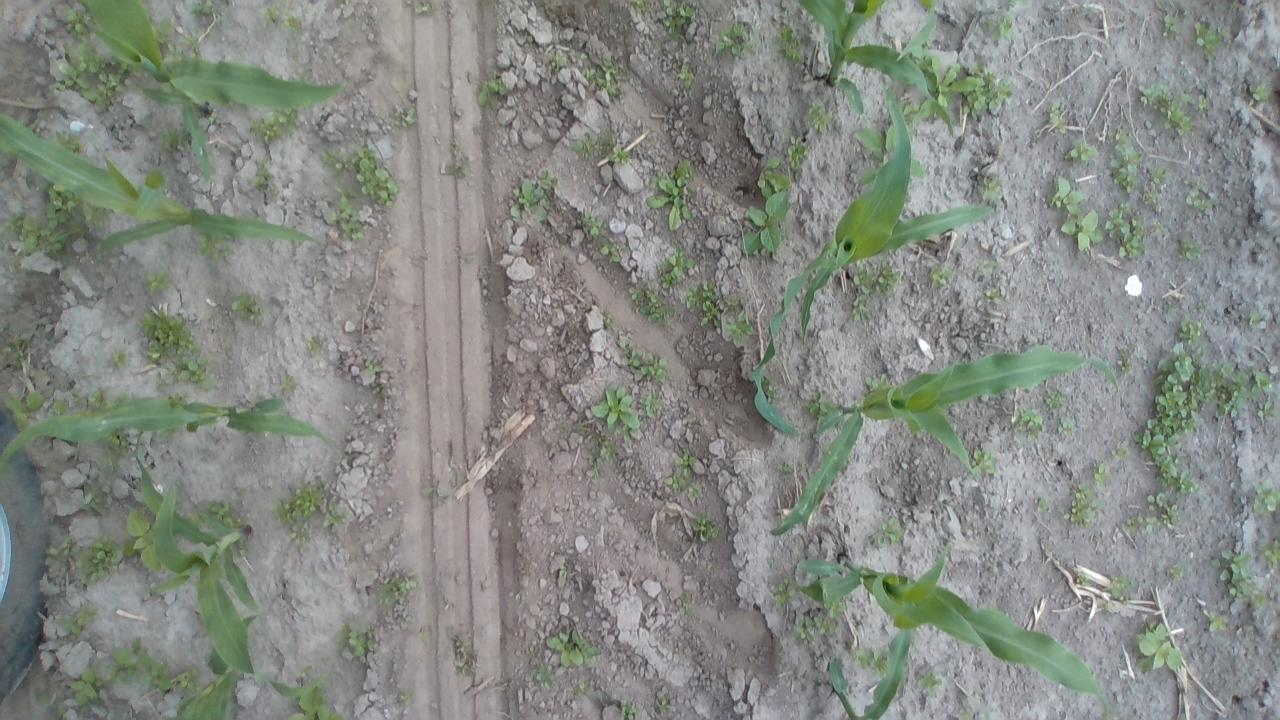Maize: (748, 100, 990, 438), (770, 344, 1120, 541), (801, 538, 1106, 718), (79, 0, 346, 183), (0, 110, 321, 253), (132, 428, 260, 676), (3, 395, 333, 470), (798, 0, 956, 135), (173, 616, 323, 720), (829, 628, 916, 720)
Weeds: (1138, 340, 1276, 494), (6, 183, 84, 259), (54, 40, 130, 108), (104, 640, 172, 692), (644, 158, 692, 231), (1136, 77, 1192, 138), (738, 192, 791, 256), (1054, 178, 1100, 250), (920, 50, 976, 109), (505, 168, 561, 220), (1136, 620, 1186, 678), (120, 507, 163, 574), (350, 146, 398, 206), (590, 383, 644, 433), (968, 64, 1014, 116), (270, 478, 324, 522), (1104, 200, 1146, 256), (1108, 129, 1142, 198), (578, 49, 622, 101), (546, 626, 602, 666), (1210, 546, 1252, 594), (142, 309, 190, 350), (623, 338, 669, 380), (666, 452, 704, 502), (334, 184, 367, 239), (80, 536, 114, 588), (656, 244, 696, 288), (684, 276, 717, 328), (286, 690, 343, 720), (238, 111, 302, 137), (752, 155, 794, 194), (724, 292, 754, 346), (712, 21, 756, 57), (849, 264, 876, 322), (1068, 483, 1102, 528), (662, 0, 698, 41), (1193, 21, 1234, 57), (5, 391, 46, 427), (627, 284, 667, 320), (978, 4, 1016, 40), (69, 664, 100, 706), (1145, 493, 1182, 528), (777, 22, 808, 62), (794, 610, 832, 642), (377, 577, 417, 606), (1144, 162, 1166, 214), (57, 607, 99, 633), (870, 518, 904, 550), (196, 235, 231, 266), (151, 15, 178, 54), (471, 77, 502, 110), (856, 643, 888, 674), (206, 501, 244, 527), (176, 355, 210, 384), (808, 390, 834, 426), (1160, 4, 1186, 40), (1114, 336, 1136, 378), (1017, 407, 1044, 441), (1252, 482, 1280, 514), (230, 292, 262, 320), (690, 515, 720, 543), (48, 531, 76, 561), (919, 669, 946, 700), (1, 330, 28, 361), (784, 137, 810, 169), (1186, 184, 1216, 211), (806, 102, 833, 132), (774, 578, 797, 612), (970, 447, 996, 477), (876, 262, 902, 292), (592, 439, 622, 465), (1040, 388, 1070, 413), (318, 146, 349, 170), (926, 262, 952, 290), (1068, 138, 1098, 162), (54, 130, 86, 152), (63, 10, 92, 34), (81, 485, 105, 514), (674, 591, 699, 618), (443, 156, 470, 180), (1048, 98, 1068, 130), (1177, 319, 1207, 340), (323, 504, 348, 529), (580, 212, 604, 238), (350, 628, 372, 656), (420, 482, 454, 500), (676, 58, 695, 90), (253, 156, 273, 186), (540, 47, 566, 70), (85, 208, 114, 228), (1088, 461, 1114, 483), (162, 122, 184, 148), (644, 390, 664, 418), (1260, 539, 1280, 567), (575, 131, 596, 157), (984, 286, 1011, 306), (174, 668, 196, 692), (600, 236, 620, 261), (1180, 238, 1202, 260), (284, 13, 304, 36), (1246, 310, 1267, 331), (154, 366, 174, 388), (262, 5, 282, 27), (956, 705, 989, 718), (1056, 416, 1076, 437), (335, 622, 350, 650), (982, 176, 1002, 197), (148, 270, 168, 291), (1148, 218, 1168, 239), (270, 376, 291, 396), (764, 377, 780, 403), (395, 108, 416, 127), (106, 433, 128, 451), (598, 126, 612, 154), (1112, 574, 1128, 598), (1248, 79, 1269, 97), (1210, 611, 1228, 630), (1110, 441, 1129, 459), (614, 144, 632, 163), (616, 700, 636, 717), (864, 376, 892, 388), (979, 256, 1000, 272), (773, 463, 795, 478), (179, 30, 201, 44), (69, 393, 87, 410), (535, 665, 551, 684), (92, 391, 107, 411), (192, 2, 222, 12), (1126, 516, 1144, 532), (290, 525, 306, 543), (1164, 563, 1183, 578), (572, 680, 588, 697), (109, 351, 125, 367), (394, 688, 412, 702), (306, 338, 320, 356), (102, 452, 120, 466), (167, 393, 183, 408), (417, 0, 432, 16), (630, 0, 650, 12), (1254, 592, 1268, 608), (602, 310, 616, 326), (558, 562, 572, 578), (654, 700, 670, 714), (1073, 574, 1091, 586), (1035, 497, 1050, 511), (51, 398, 66, 412), (144, 351, 162, 361), (590, 463, 600, 478), (314, 674, 328, 684), (368, 364, 380, 375), (1017, 0, 1033, 8), (1198, 94, 1207, 108)
